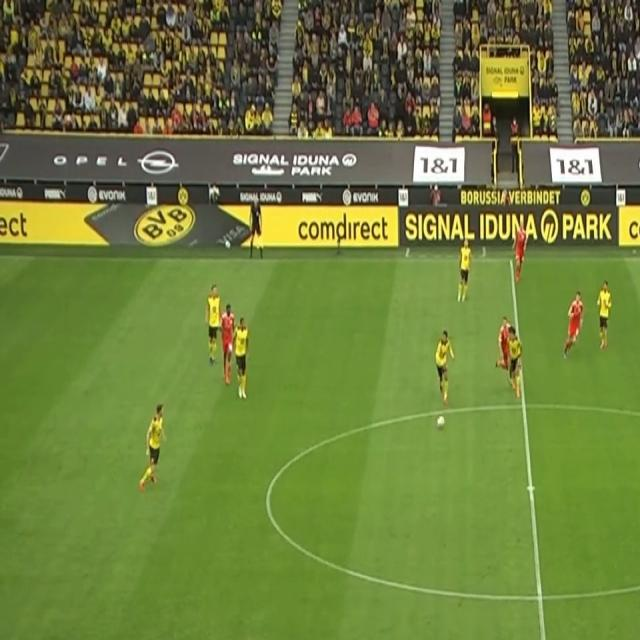ball: (437, 414, 445, 431)
